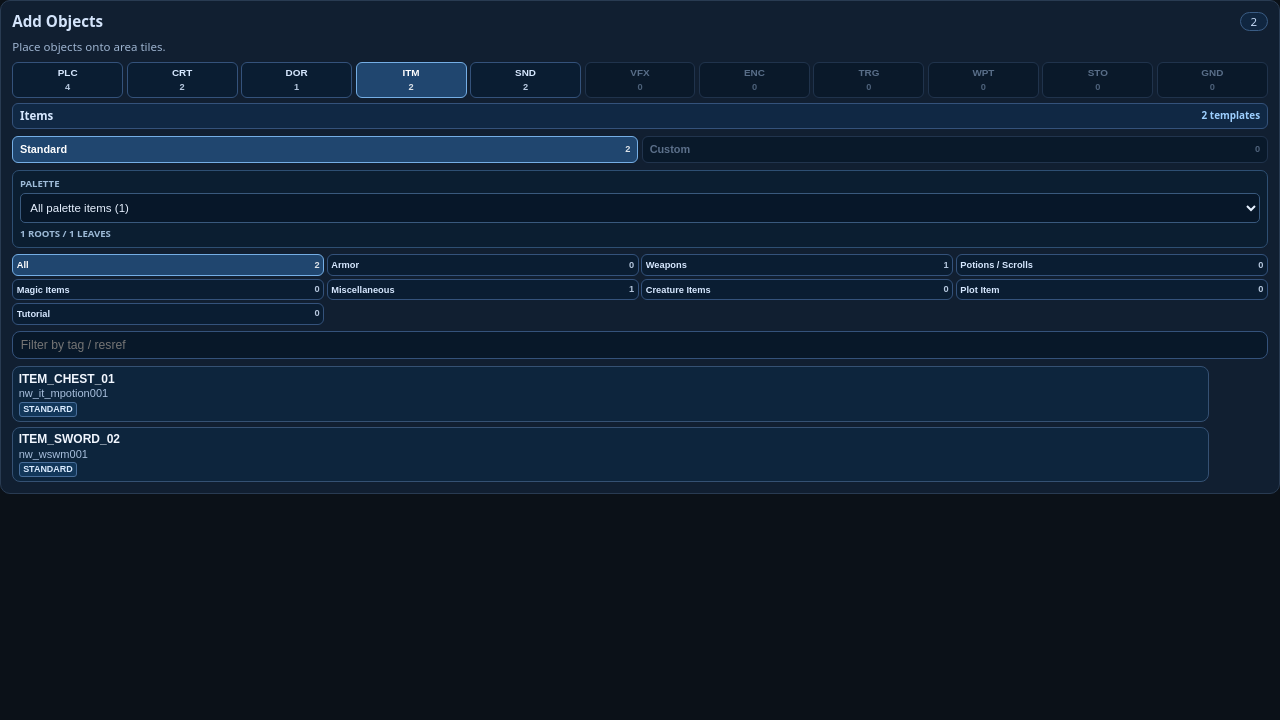
Test case: SceneObjectAddPanel › filters Add-to-Area items through the shared itempal tree
Check: the text "ITEM_CHEST_01" is shown, box x1=19 y1=372 x2=115 y2=386
Check: the text "ITEM_SWORD_02" is shown, box x1=19 y1=432 x2=120 y2=446
Select "Weapons / 1 items" in the dropdown named "add item palette category": (640,208) x1=20 y1=193 x2=1260 y2=223
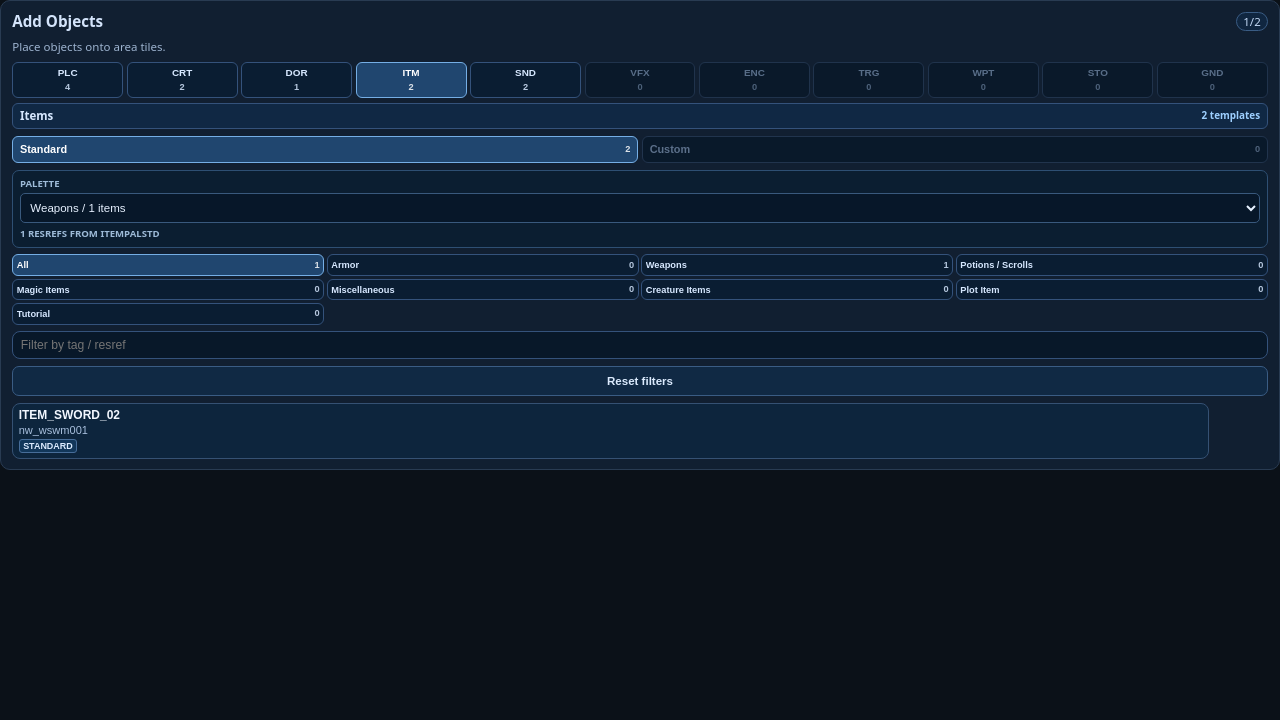
Check: the text "ITEM_SWORD_02" is shown, box x1=19 y1=408 x2=120 y2=423
Check: the button "ITEM_CHEST_01" is gone
Check: the button "Miscellaneous 0" is shown, box x1=327 y1=279 x2=639 y2=300
Click the button with aria-label "reset add object filters": (640,381) x1=12 y1=366 x2=1268 y2=396
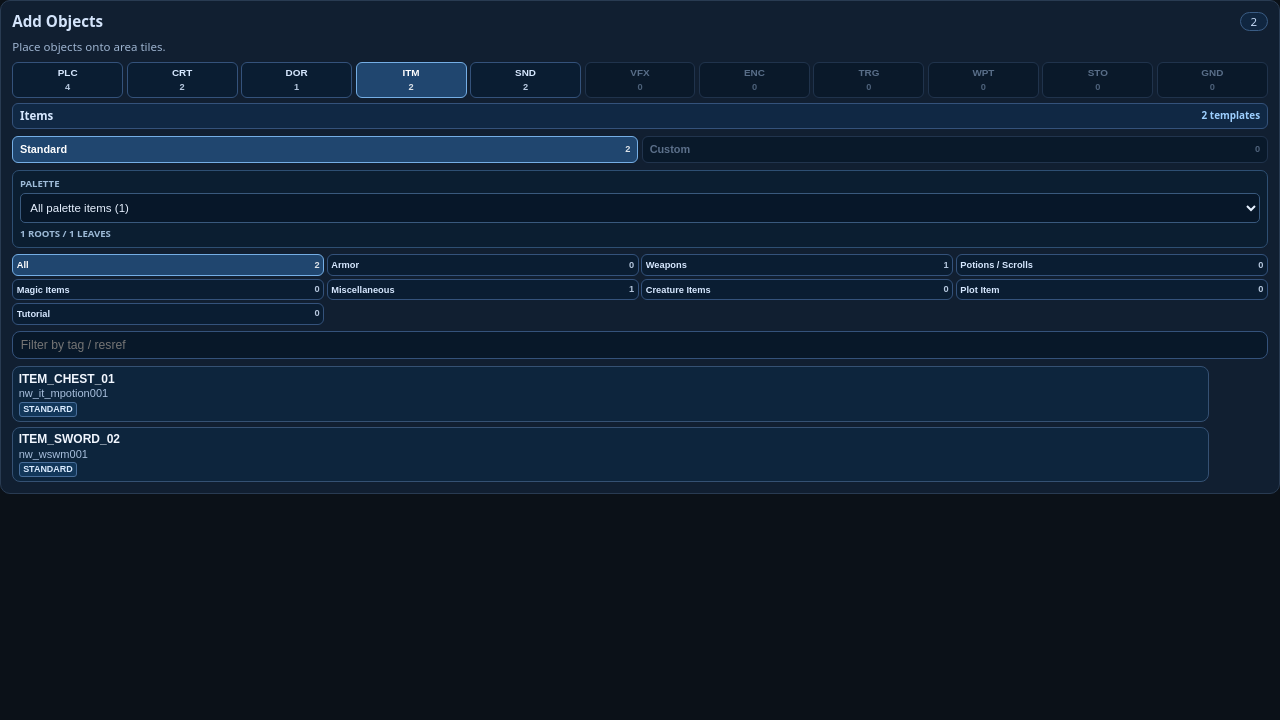
Check: the text "ITEM_SWORD_02" is shown, box x1=19 y1=432 x2=120 y2=446
Check: the text "ITEM_CHEST_01" is shown, box x1=19 y1=372 x2=115 y2=386
